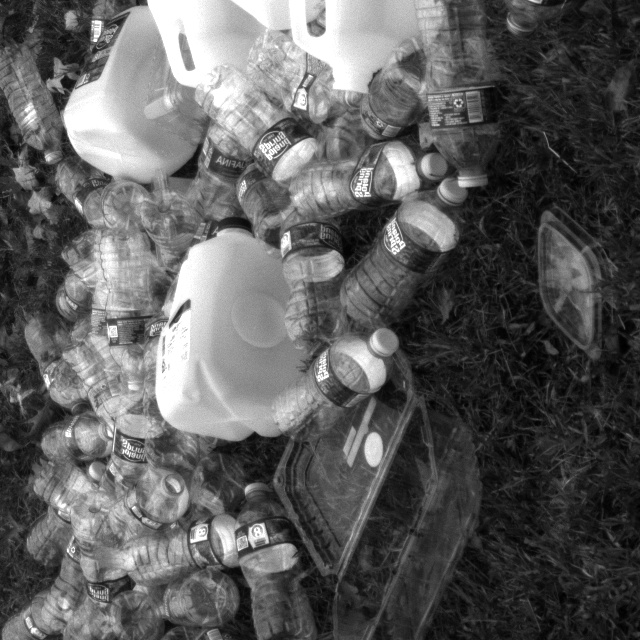bottle: (319, 171, 483, 344), (408, 0, 500, 201), (281, 127, 443, 232), (82, 202, 155, 421), (101, 509, 283, 593), (18, 504, 118, 640), (0, 36, 65, 157), (25, 400, 123, 479), (483, 0, 626, 53)
can: (151, 224, 315, 453), (45, 0, 202, 193), (295, 0, 450, 103), (145, 0, 270, 99)
container: (252, 298, 496, 640), (520, 222, 614, 358)
